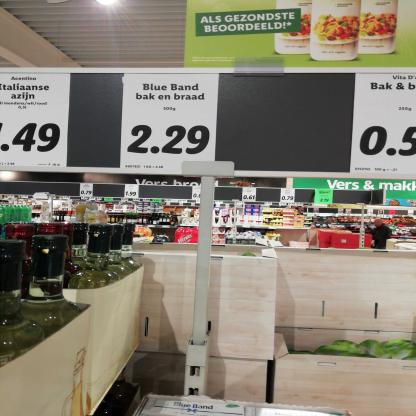prtg: (121, 75, 220, 171), (1, 74, 73, 168), (350, 74, 416, 175)
